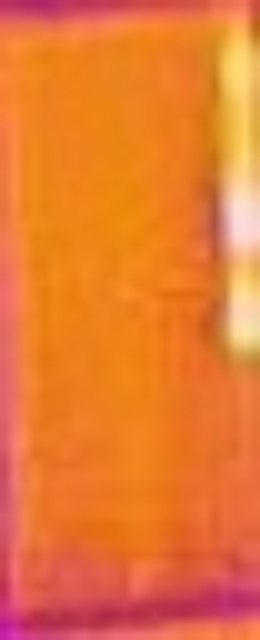Diode: (210, 23, 260, 362)
